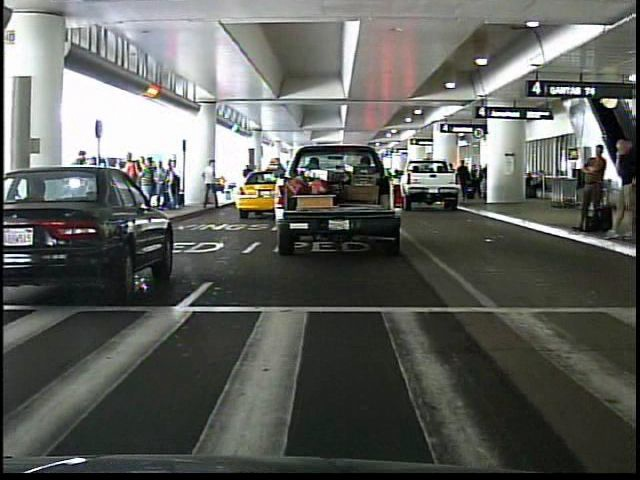person: (569, 133, 607, 242), (606, 136, 635, 240), (119, 152, 145, 222), (201, 160, 223, 213)
